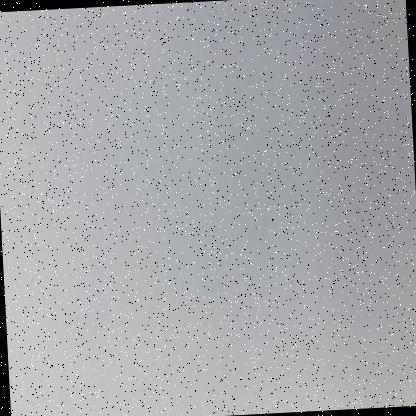Nocrack: (7, 0, 402, 411)
